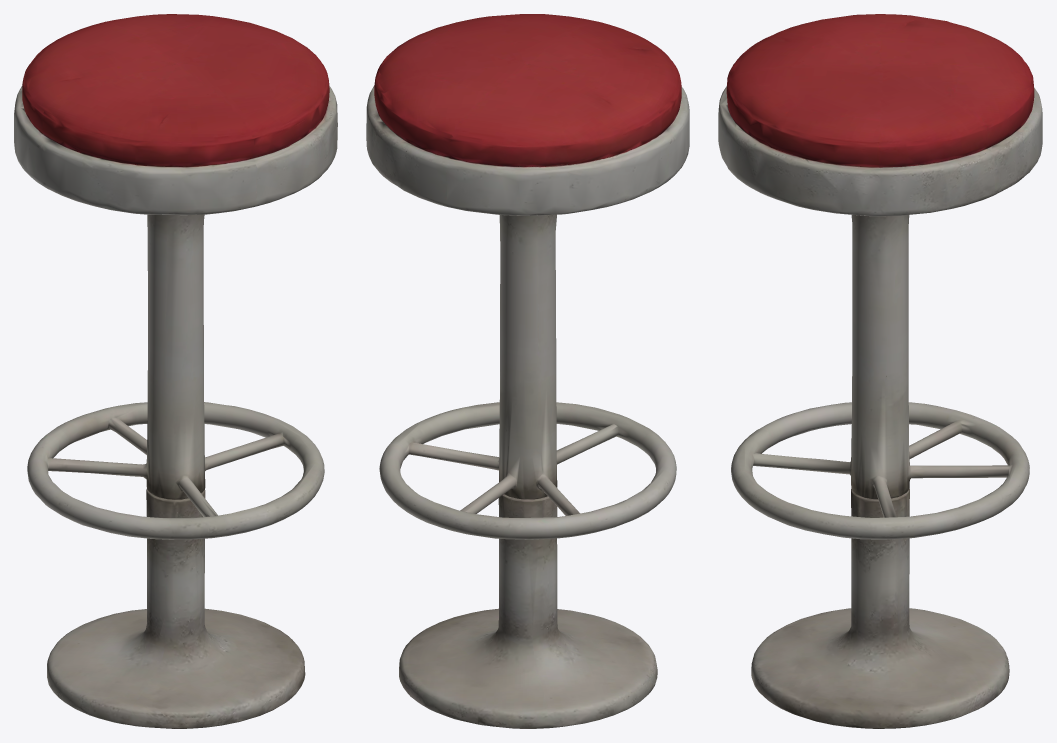
File: cantina_stool2.glb
3 renders of one model, left to right at view 1: azimuth 30°, elevation 25°; view 2: azimuth 150°, elevation 25°; view 3: azimuth 270°, elevation 25°, orthographic.
Visible parts, largest first — view 1: tripo_node_66ee3d60-97c6-4eaa-8e6a-12ddc1a8f754; view 2: tripo_node_66ee3d60-97c6-4eaa-8e6a-12ddc1a8f754; view 3: tripo_node_66ee3d60-97c6-4eaa-8e6a-12ddc1a8f754.
Part boxes in pixels (x1=…): tripo_node_66ee3d60-97c6-4eaa-8e6a-12ddc1a8f754: x1=14, y1=14, x2=337, y2=728; tripo_node_66ee3d60-97c6-4eaa-8e6a-12ddc1a8f754: x1=366, y1=14, x2=689, y2=728; tripo_node_66ee3d60-97c6-4eaa-8e6a-12ddc1a8f754: x1=718, y1=14, x2=1042, y2=728.
Bounding box in the file's own units: 0.4815 × 0.9999 × 0.481.
Materials: 1 (1 with a texture image).
